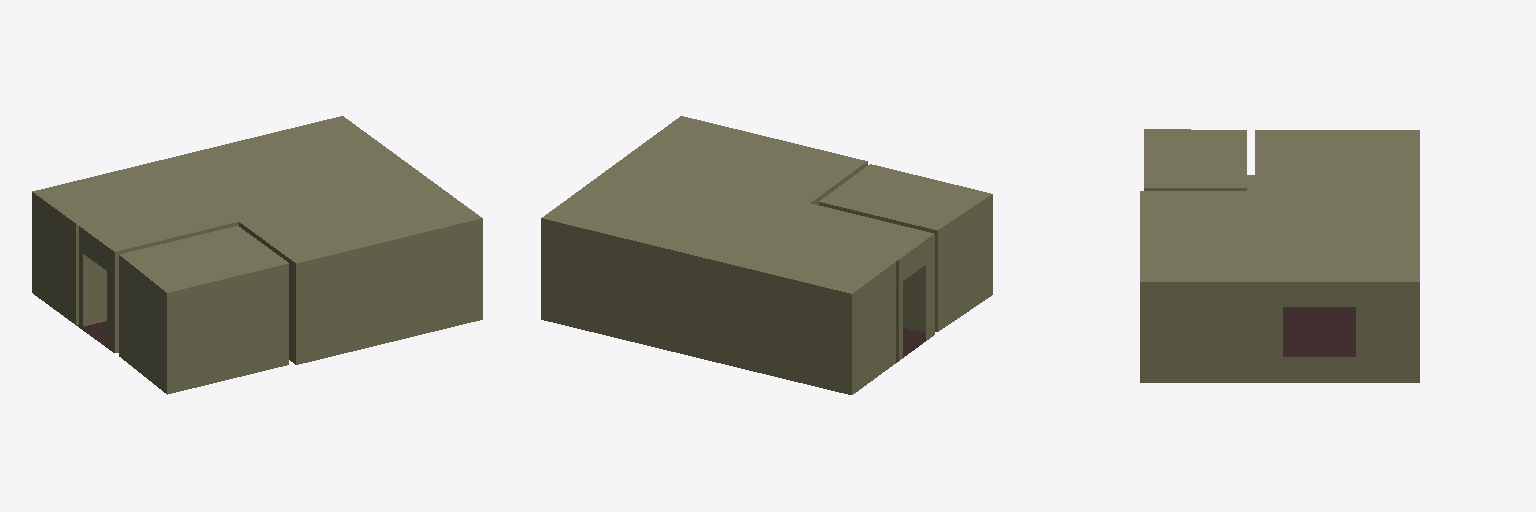
File: Room.obj
3 renders of one model, left to right at view 1: azimuth 30°, elevation 25°; view 2: azimuth 150°, elevation 25°; view 3: azimuth 270°, elevation 25°, orthographic.
Parts seen in each view (by area): view 1: Room_Cube.018; view 2: Room_Cube.018; view 3: Room_Cube.018.
Part boxes in pixels (bbox=[...]): Room_Cube.018: bbox=[32, 116, 482, 394]; Room_Cube.018: bbox=[541, 116, 992, 394]; Room_Cube.018: bbox=[1140, 129, 1419, 382].
Bounding box in the file's own units: 7.69 × 2.38 × 5.95.